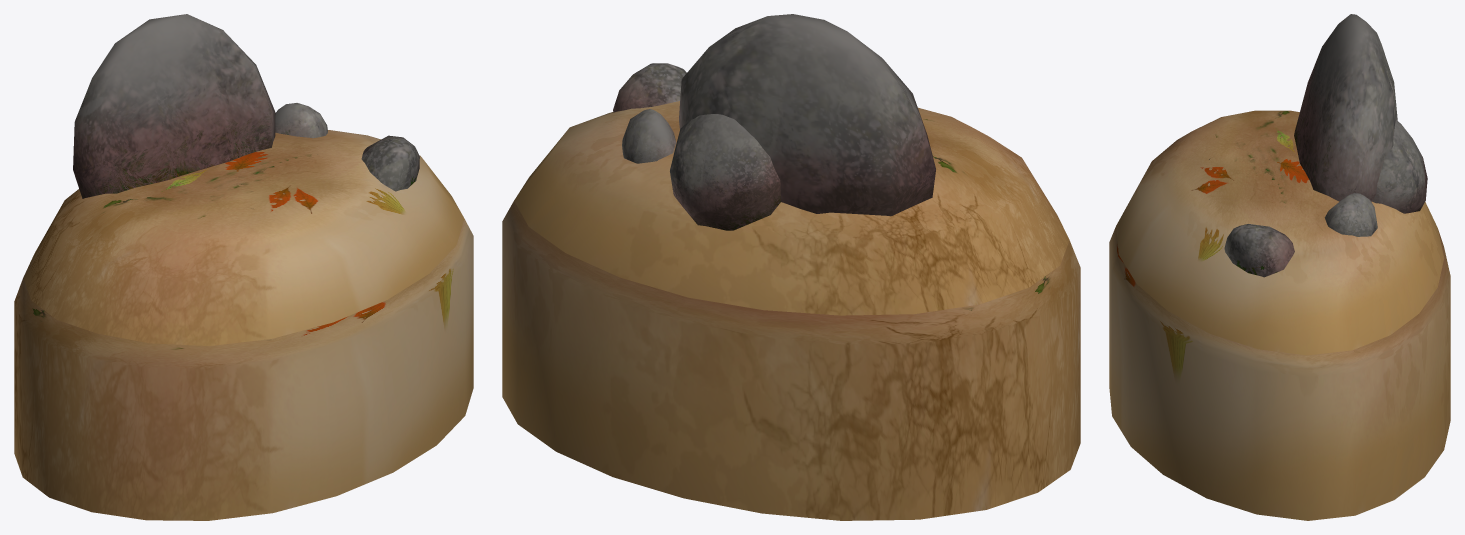
Rendered from island9.fbx.
The picture shows the model from 3 angles, left to right: view 1: azimuth 30°, elevation 25°; view 2: azimuth 150°, elevation 25°; view 3: azimuth 270°, elevation 25°; orthographic projection. The views are drawn at different scales.
Parts seen in each view (by area): view 1: Ilsand.008; view 2: Ilsand.008; view 3: Ilsand.008.
Part boxes in pixels (left/top/right/bottom): Ilsand.008: left=14, top=14, right=473, bottom=520; Ilsand.008: left=502, top=14, right=1080, bottom=520; Ilsand.008: left=1109, top=14, right=1450, bottom=520.
Bounding box in the file's own units: 1753 × 1477 × 1235.
